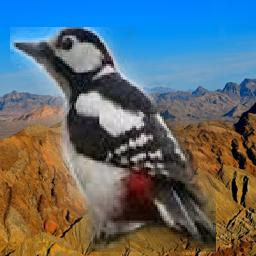Woodpecker: (10, 28, 216, 253)
